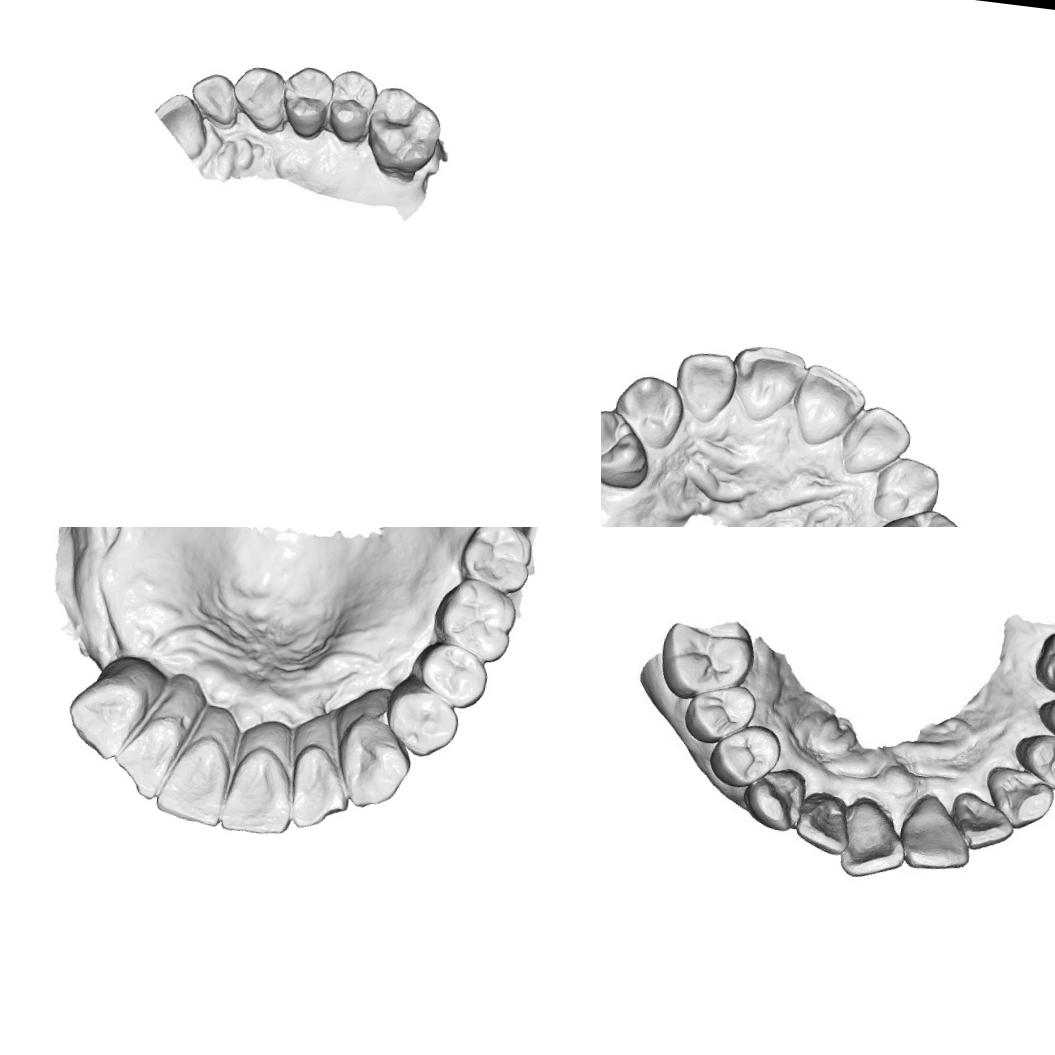canine: (60, 666, 152, 766), (335, 711, 418, 814), (608, 370, 684, 448), (866, 453, 945, 527), (977, 763, 1055, 834), (740, 764, 810, 837), (226, 61, 292, 136)
incisor: (150, 726, 234, 830), (217, 737, 301, 840), (107, 706, 190, 807), (788, 359, 872, 452), (729, 342, 809, 427), (837, 399, 917, 482), (288, 738, 355, 834), (838, 794, 909, 884), (900, 793, 974, 872), (670, 346, 738, 427), (150, 90, 209, 160), (955, 792, 1016, 851), (186, 68, 242, 126), (798, 790, 850, 852)
molar: (653, 616, 754, 708), (428, 576, 521, 668), (361, 82, 446, 182), (455, 527, 536, 598)
premolar: (380, 676, 463, 763), (702, 718, 788, 794), (411, 638, 492, 714), (680, 678, 759, 750), (278, 60, 336, 144), (601, 402, 654, 493), (323, 66, 380, 146), (1008, 728, 1055, 795), (864, 505, 964, 527), (1031, 689, 1055, 753)
